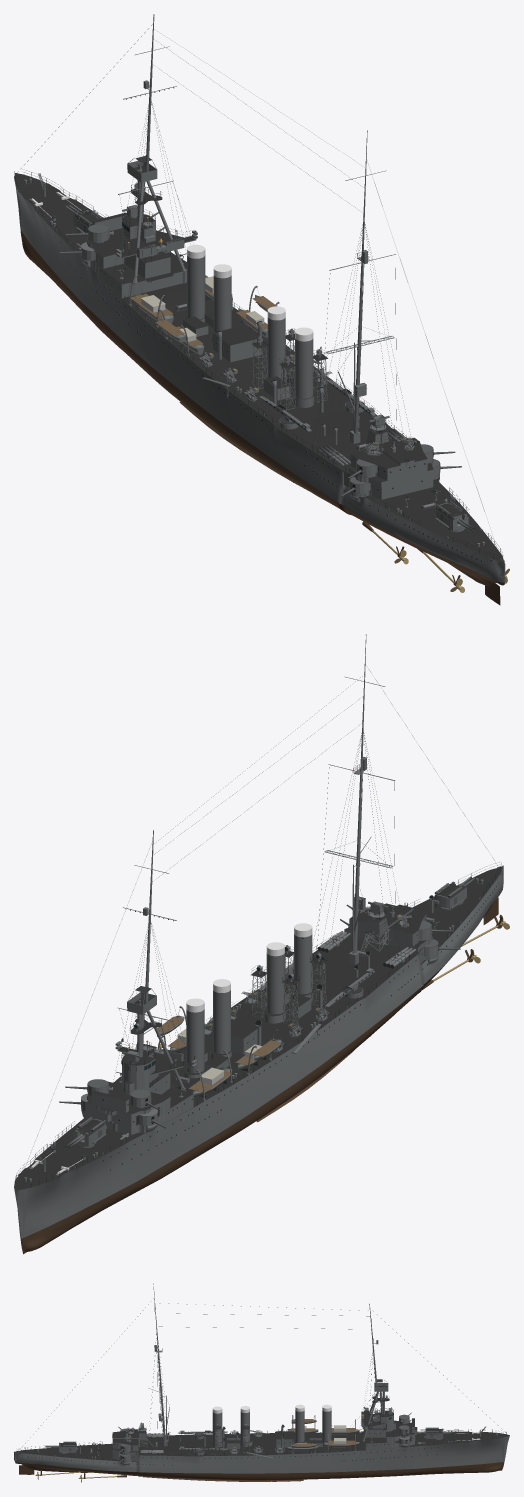
The model's file is omaha.glb.
3 renders of one model, top to bottom at view 1: azimuth 30°, elevation 25°; view 2: azimuth 150°, elevation 25°; view 3: azimuth 270°, elevation 25°, orthographic. The views are drawn at different scales.
Parts seen in each view (by area): view 1: Blueprint lofted hull, foremast.mesh, mainmast.mesh, funnel-1.mesh, funnel-4.mesh, navigation-bridge.mesh, funnel-3.mesh, funnel-2.mesh, midships-house.mesh, fwd-00.mesh, fwd-01.mesh, after-house-low.mesh (+6 smaller); view 2: Blueprint lofted hull, mainmast.mesh, foremast.mesh, funnel-3.mesh, funnel-1.mesh, funnel-2.mesh, funnel-4.mesh, fwd-03.mesh, navigation-bridge.mesh, midships-house.mesh, fwd-00.mesh, launch-port.mesh (+4 smaller); view 3: Blueprint lofted hull, foremast.mesh, mainmast.mesh, funnel-2.mesh, funnel-4.mesh, funnel-1.mesh, funnel-3.mesh, fwd-03.mesh, bilge-keels.mesh, railings.mesh, navigation-bridge.mesh, launch-starboard.mesh (+3 smaller).
Part boxes in pixels (<box>): Blueprint lofted hull: <box>14,173,505,586</box>; foremast.mesh: <box>17,14,363,298</box>; mainmast.mesh: <box>194,55,484,511</box>; funnel-1.mesh: <box>187,244,205,319</box>; funnel-4.mesh: <box>295,327,313,398</box>; navigation-bridge.mesh: <box>116,226,197,258</box>; funnel-3.mesh: <box>267,306,285,378</box>; funnel-2.mesh: <box>213,264,231,332</box>; midships-house.mesh: <box>213,325,261,362</box>; fwd-00.mesh: <box>90,260,186,298</box>; fwd-01.mesh: <box>96,252,186,285</box>; after-house-low.mesh: <box>341,469,433,499</box>; Blueprint lofted hull: <box>14,865,503,1254</box>; mainmast.mesh: <box>158,634,494,972</box>; foremast.mesh: <box>18,704,352,1185</box>; funnel-3.mesh: <box>266,942,284,1014</box>; funnel-1.mesh: <box>186,998,204,1073</box>; funnel-2.mesh: <box>213,979,230,1053</box>; funnel-4.mesh: <box>294,923,312,994</box>; fwd-03.mesh: <box>86,1077,170,1117</box>; navigation-bridge.mesh: <box>115,1038,197,1075</box>; midships-house.mesh: <box>212,1019,257,1054</box>; fwd-00.mesh: <box>84,1095,193,1134</box>; launch-port.mesh: <box>188,1067,232,1097</box>; Blueprint lofted hull: <box>14,1431,509,1480</box>; foremast.mesh: <box>158,1303,505,1441</box>; mainmast.mesh: <box>22,1283,368,1454</box>; funnel-2.mesh: <box>295,1404,304,1442</box>; funnel-4.mesh: <box>212,1406,222,1442</box>; funnel-1.mesh: <box>322,1404,331,1441</box>; funnel-3.mesh: <box>240,1406,249,1442</box>; fwd-03.mesh: <box>367,1420,417,1438</box>; bilge-keels.mesh: <box>143,1476,303,1481</box>; railings.mesh: <box>18,1429,506,1460</box>; navigation-bridge.mesh: <box>361,1406,386,1429</box>; launch-starboard.mesh: <box>324,1438,359,1450</box>.
Size of the model in its own units: 24.26 by 72.3 by 170.
17 materials, 13 textured.
